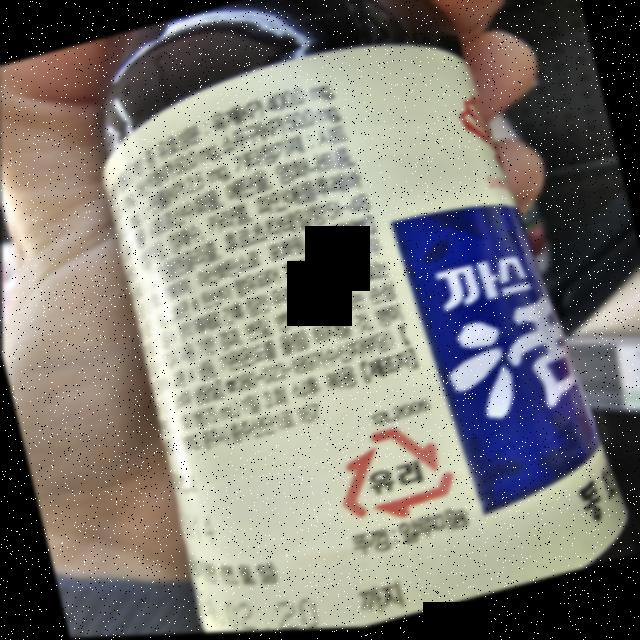Glass: (322, 410, 468, 541)
